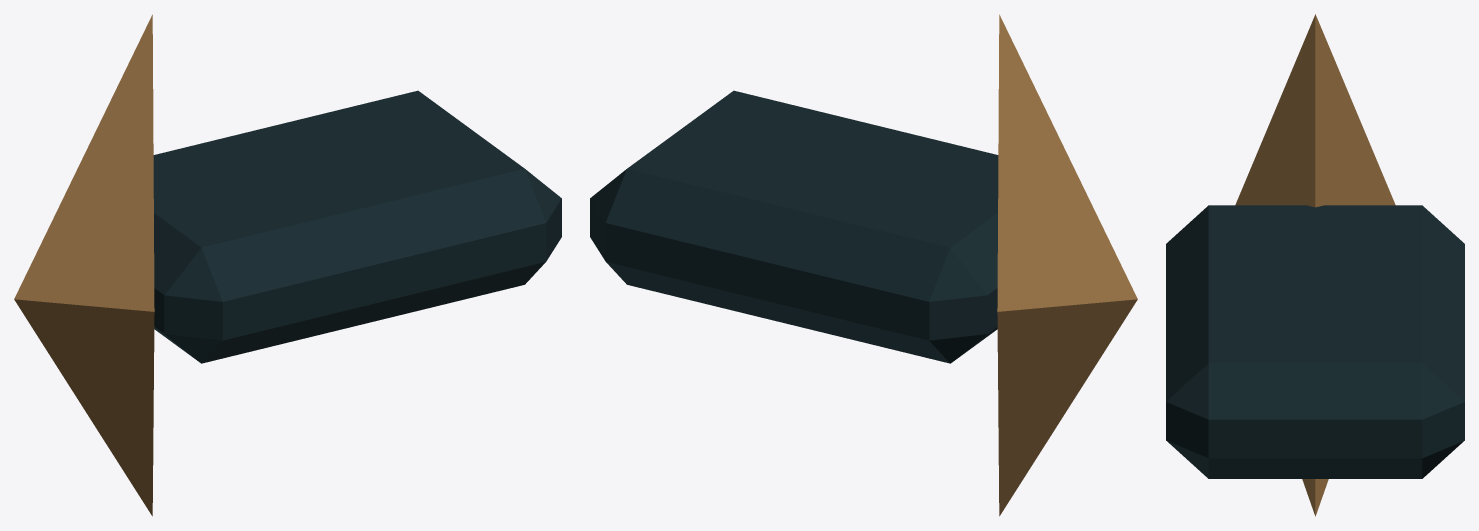
Rendered from NormalEnemy_Right.obj.
The picture shows the model from 3 angles, left to right: view 1: azimuth 30°, elevation 25°; view 2: azimuth 150°, elevation 25°; view 3: azimuth 270°, elevation 25°; orthographic projection.
Parts seen in each view (by area): view 1: NormalEnemy_Right; view 2: NormalEnemy_Right; view 3: NormalEnemy_Right.
Boxes of the visible parts, left/top/right/bottom form: NormalEnemy_Right: left=14, top=14, right=561, bottom=516; NormalEnemy_Right: left=590, top=14, right=1137, bottom=516; NormalEnemy_Right: left=1166, top=14, right=1464, bottom=516.
Size of the model in its own units: 0.5193 by 0.5047 by 0.2718.
Materials: 2 (2 with a texture image).
